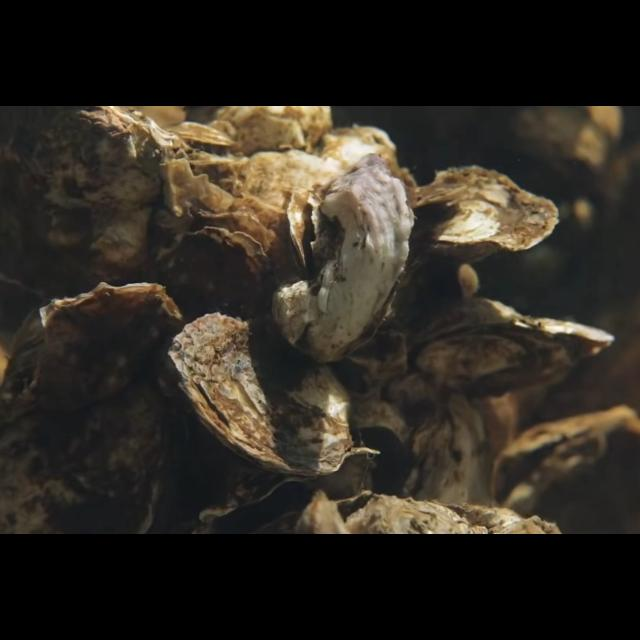Oyster-Closed: (0, 106, 216, 352), (0, 282, 184, 534), (166, 312, 357, 478), (271, 153, 415, 364), (398, 166, 560, 286), (401, 393, 494, 535), (153, 226, 271, 328)
Oyster-Open: (408, 298, 618, 400), (489, 405, 640, 534), (198, 448, 382, 534)
